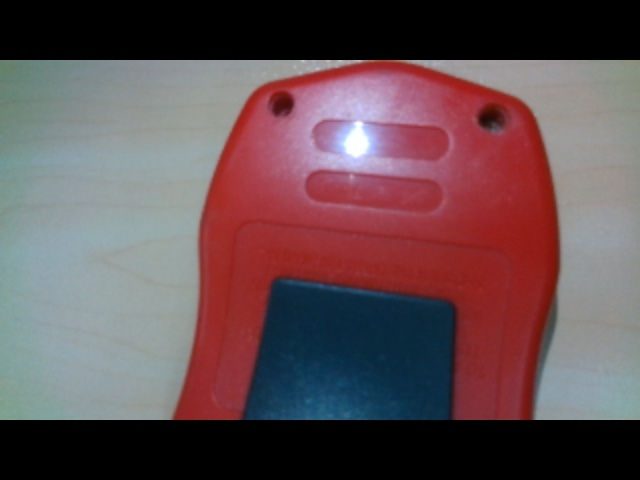Screw holes: (473, 100, 511, 137), (266, 88, 297, 120)
